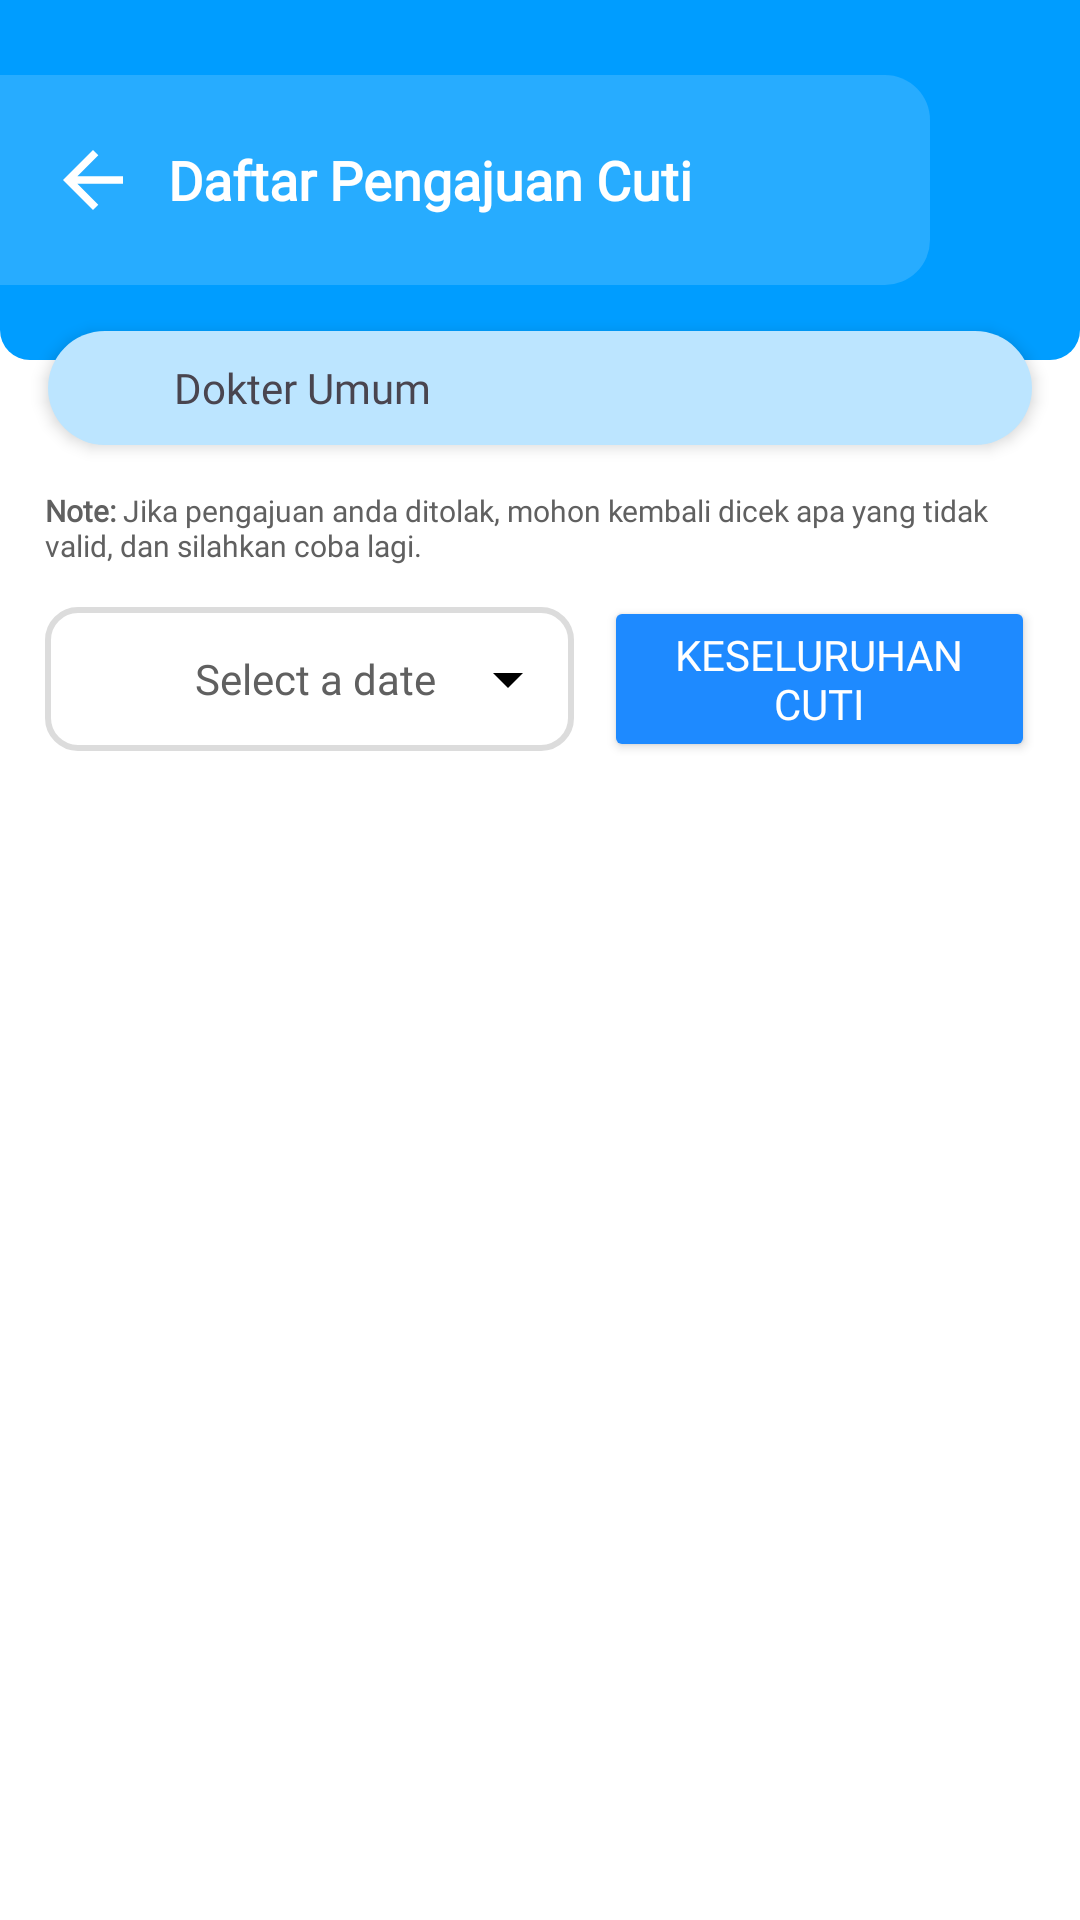

Point at icon controls on the screen. Image size 1080 × 1920, points as (x,y).
Arrow Icon: (508,680)
Back: (93,180)
